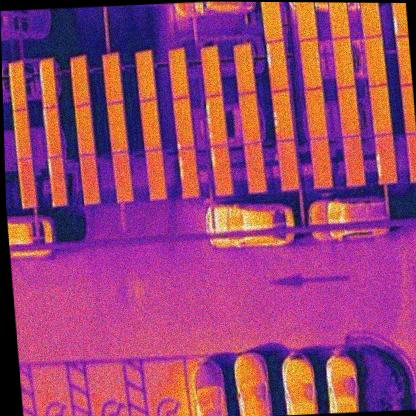Diode: (373, 134, 398, 185), (265, 39, 289, 90), (210, 145, 233, 197), (178, 146, 200, 197), (47, 154, 68, 206), (43, 105, 64, 157), (38, 58, 57, 109)
Hotspot: (271, 88, 294, 143), (205, 94, 228, 146), (172, 97, 194, 149)
Normal: (363, 35, 388, 87), (276, 138, 300, 190), (337, 85, 361, 137), (238, 91, 261, 145), (332, 38, 356, 89), (309, 137, 332, 189), (139, 100, 162, 152), (305, 87, 328, 139), (134, 49, 157, 101), (199, 45, 222, 97), (369, 85, 392, 136), (300, 38, 323, 89), (145, 148, 167, 200), (342, 134, 364, 186), (106, 101, 128, 153), (168, 47, 189, 101), (234, 41, 255, 94), (244, 142, 266, 192), (112, 150, 133, 202), (81, 153, 101, 205), (75, 104, 95, 156), (13, 108, 33, 159), (8, 60, 28, 111), (103, 52, 123, 102), (18, 157, 37, 207), (71, 56, 90, 105), (296, 2, 317, 39), (328, 2, 349, 38), (360, 3, 382, 36)
